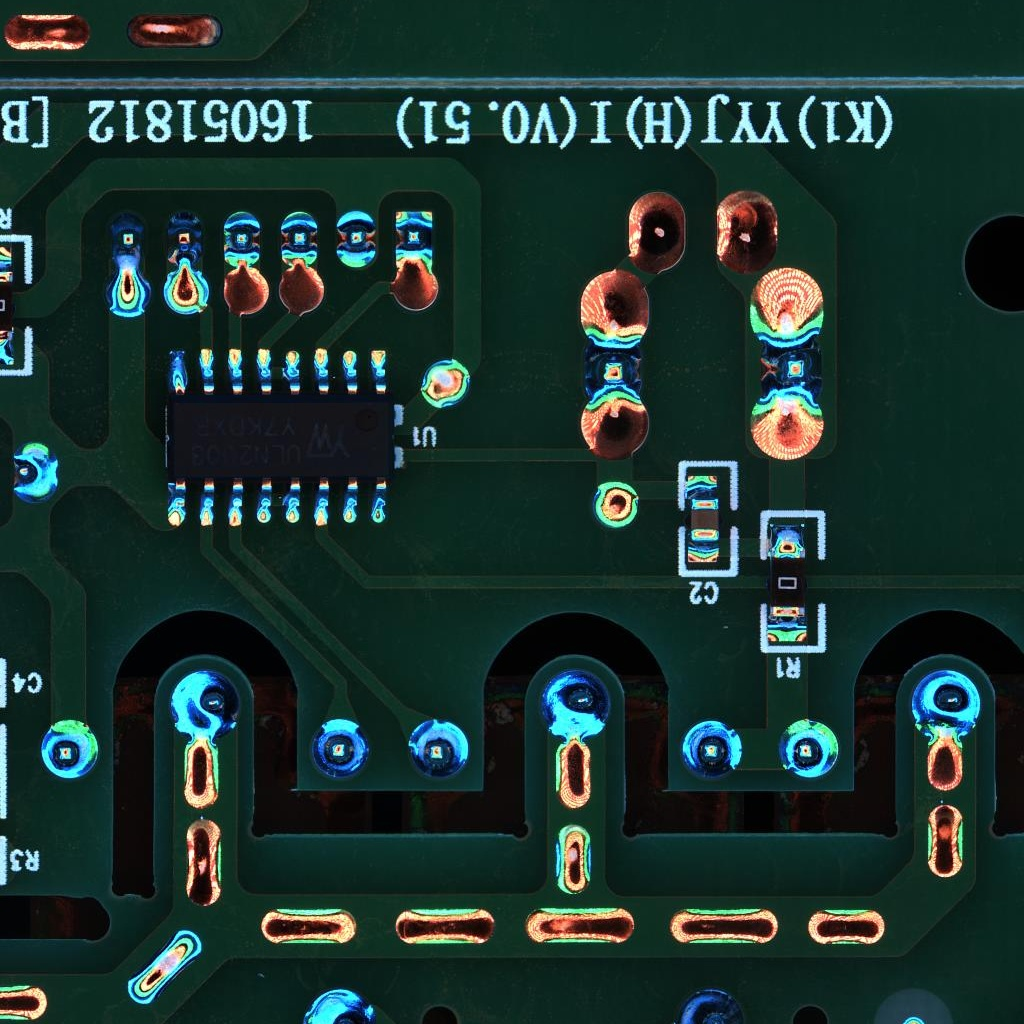spot: (165, 669, 242, 743), (540, 667, 613, 743), (908, 667, 982, 740), (753, 333, 825, 407), (577, 337, 648, 406), (307, 715, 373, 782), (678, 717, 745, 782), (406, 716, 471, 782), (778, 715, 841, 782), (38, 716, 101, 782), (299, 986, 390, 1024), (11, 440, 60, 506), (418, 355, 471, 410), (333, 207, 378, 271), (676, 987, 751, 1024), (590, 478, 641, 531), (391, 208, 435, 269), (277, 208, 320, 270), (163, 207, 202, 275), (107, 206, 146, 272), (222, 210, 262, 268)
